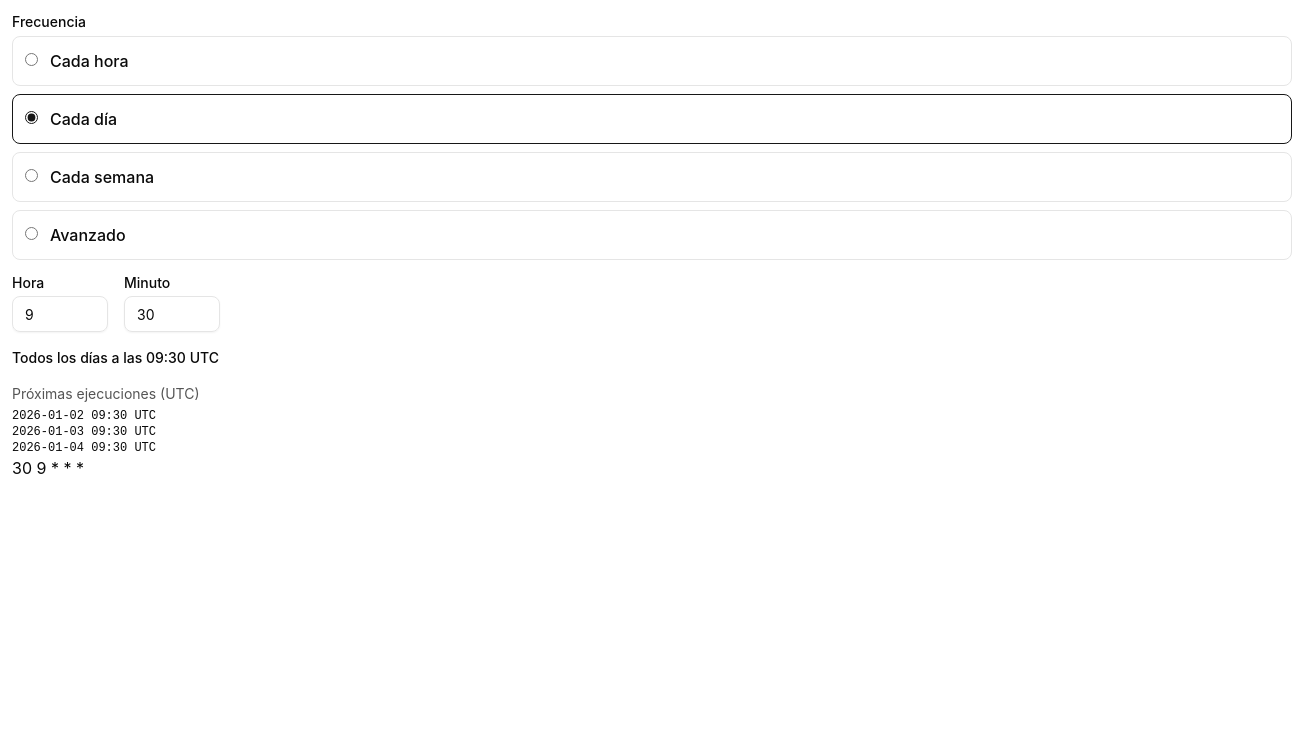
Test: CronEditor › builds a weekly schedule keeping the time
Click the radio button labelled "Cada semana" at (32, 176), box [25, 169, 38, 182]
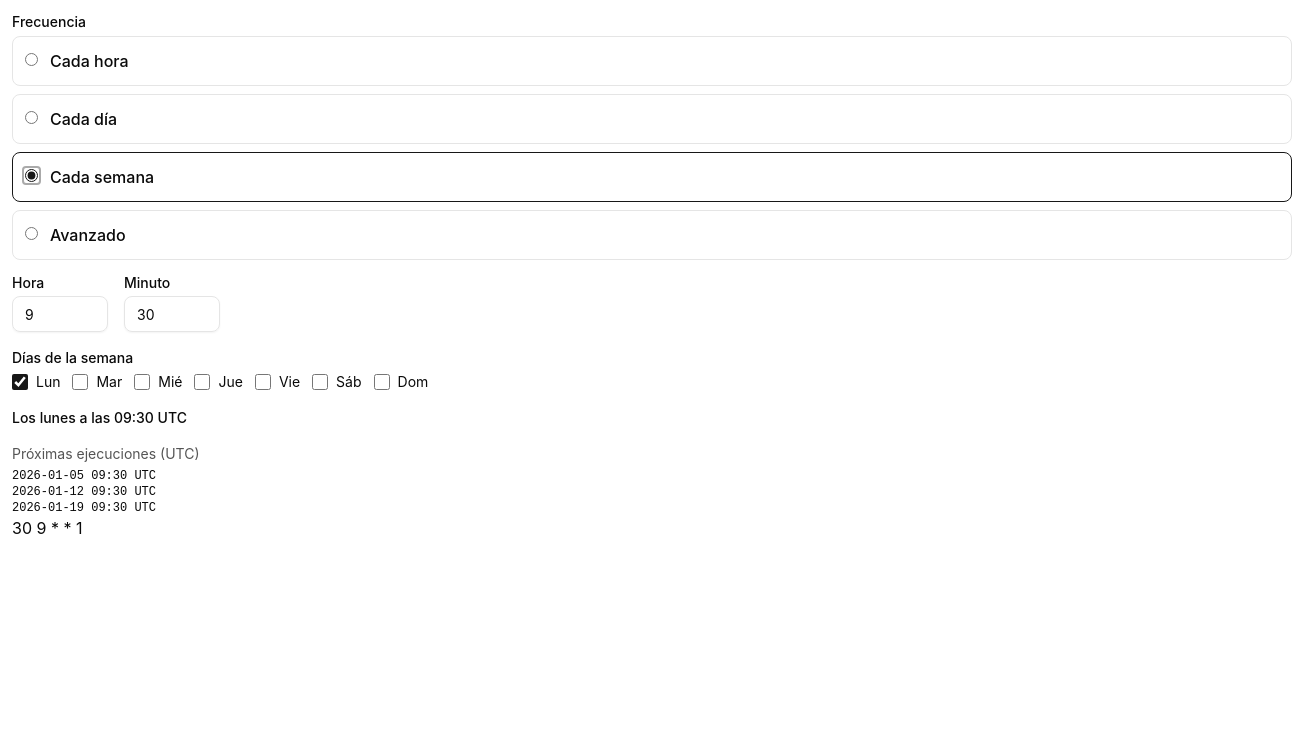
Click the checkbox labelled "Mié" at (142, 382), box [134, 374, 150, 390]
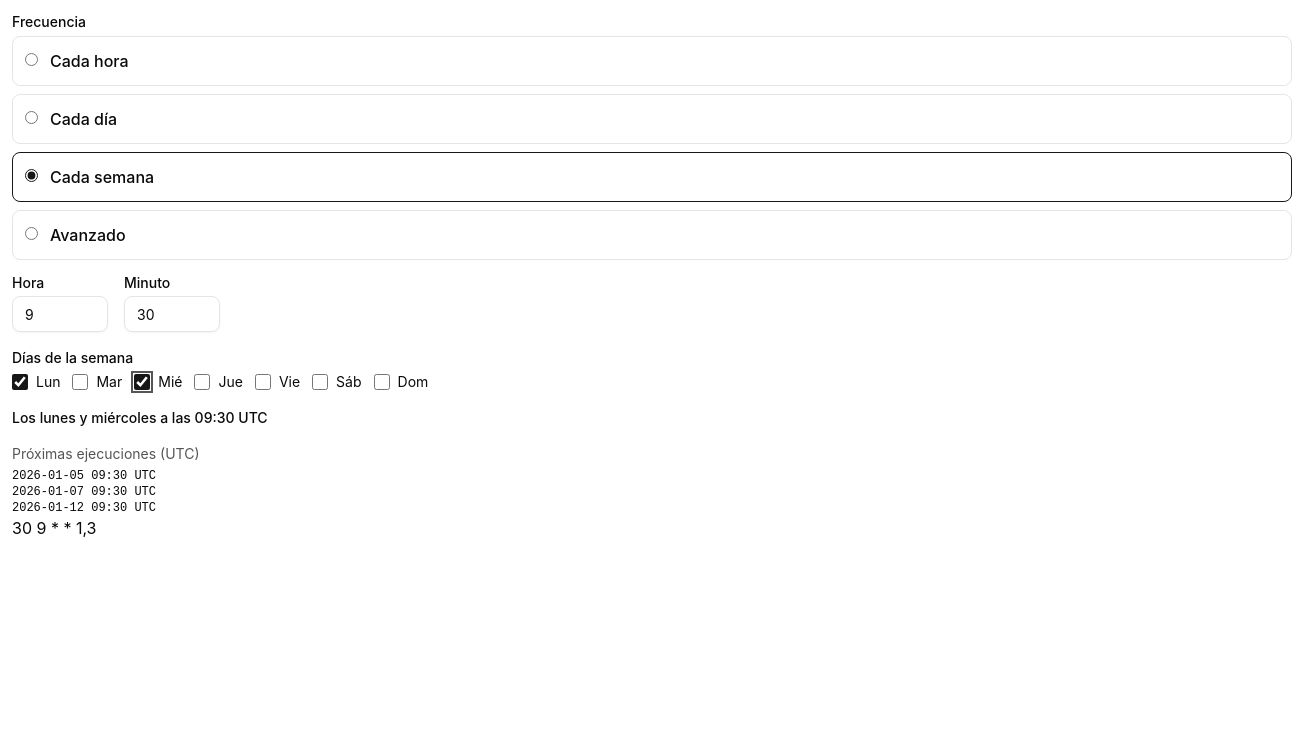
Expected: the text "Los lunes y miércoles a las 09:30 UTC" is shown, [12, 409, 268, 426]
